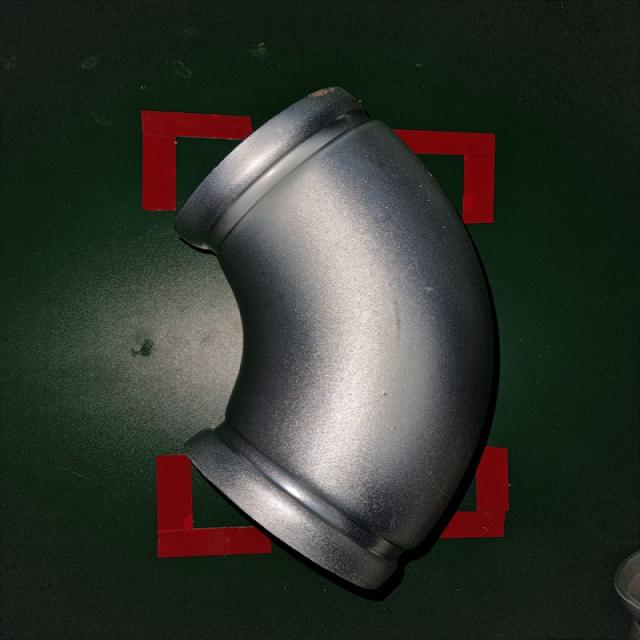Normal: (159, 77, 510, 603)
